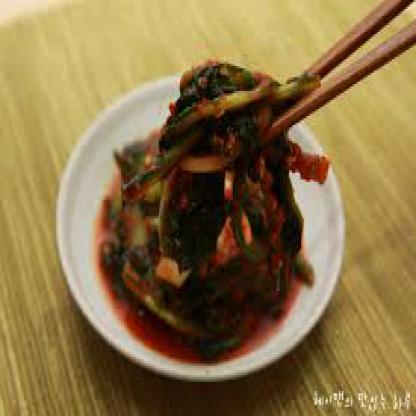young radish Kimchi: (110, 77, 306, 330)
